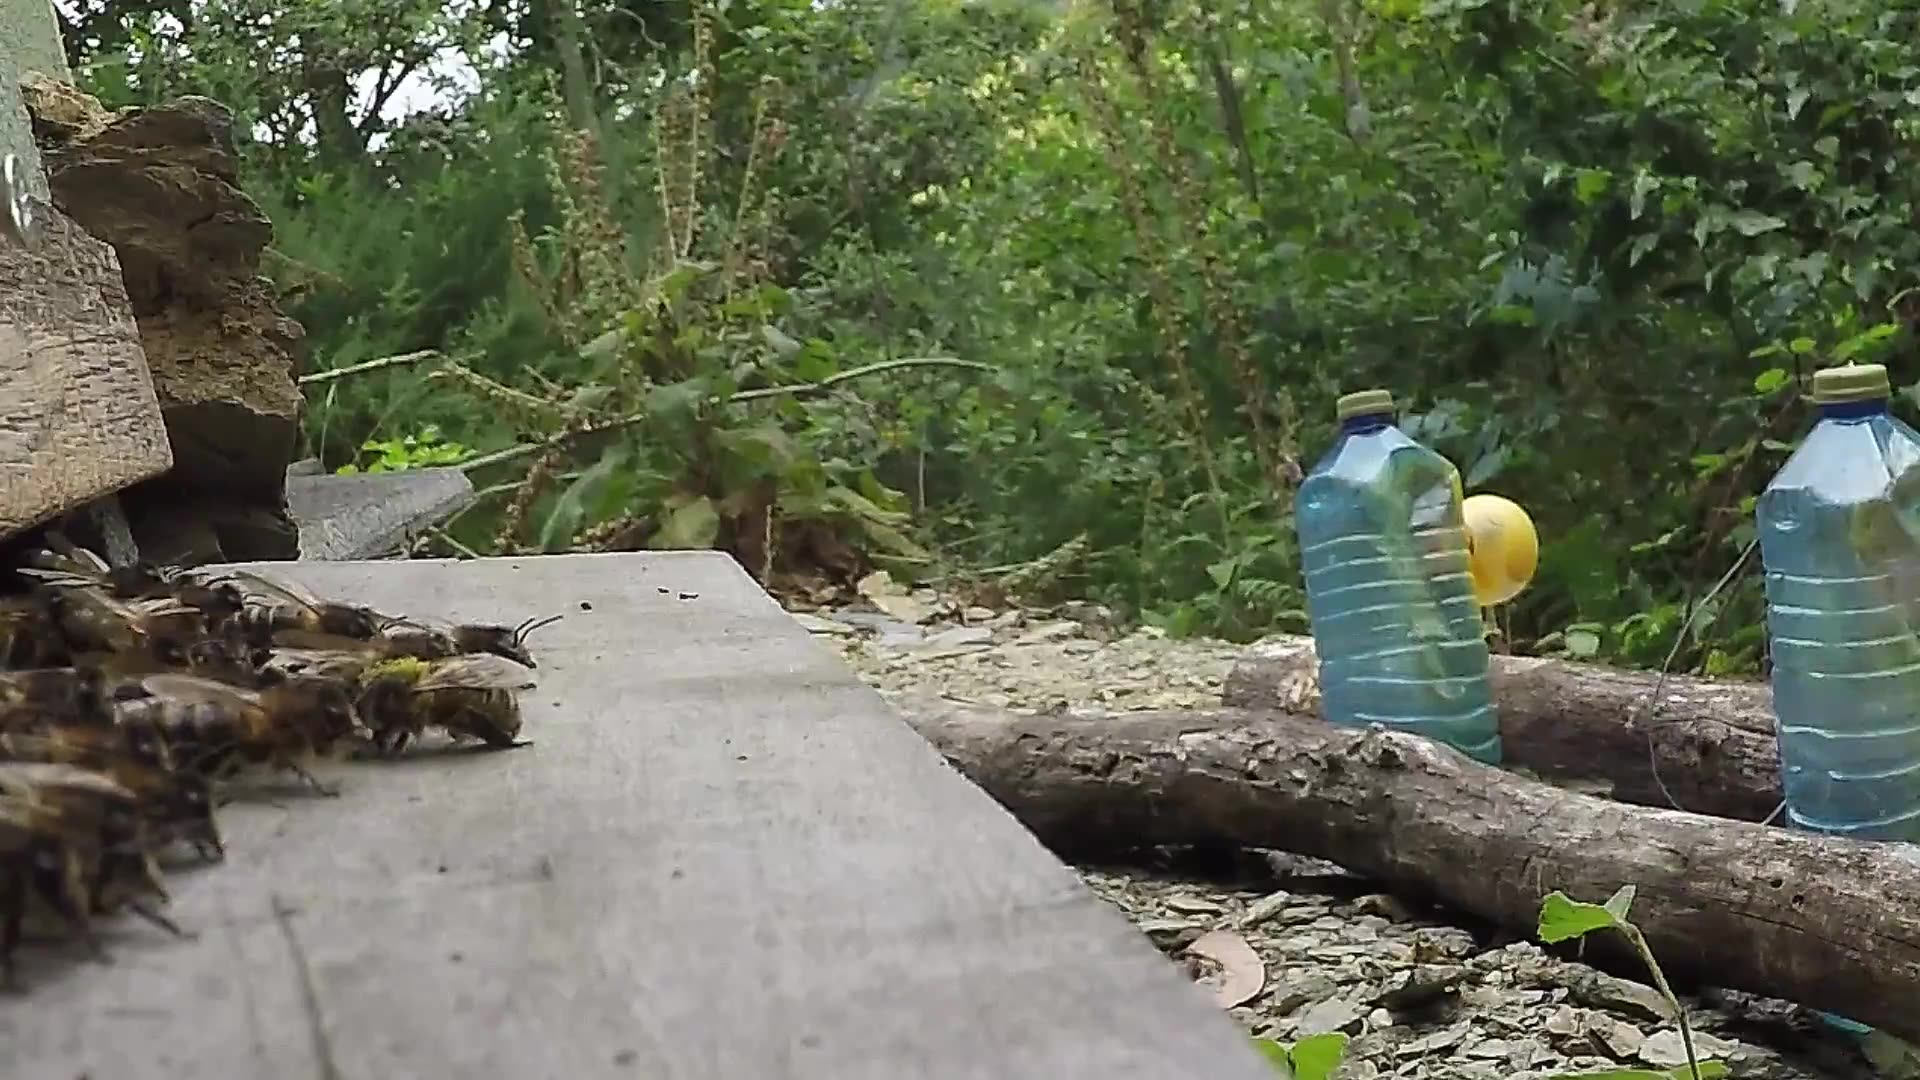bee: (1, 559, 199, 932), (196, 578, 378, 789), (332, 649, 501, 764), (377, 616, 539, 695)
